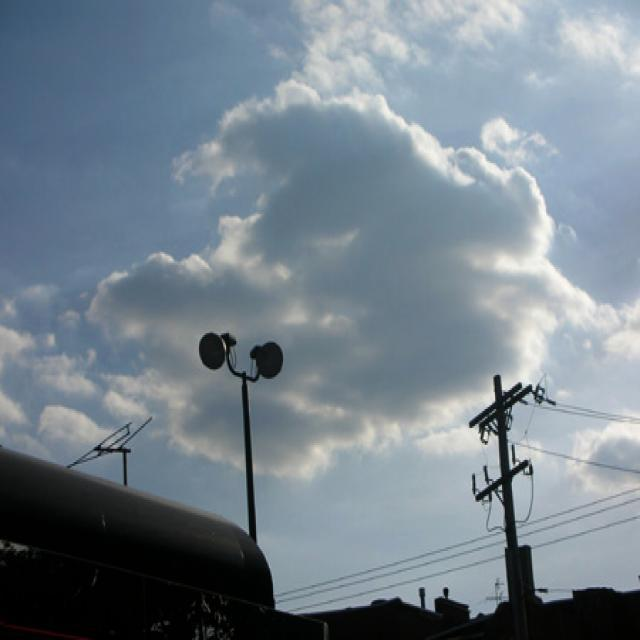crossarm: (470, 442, 534, 505), (467, 381, 534, 436)
pole: (493, 372, 543, 599), (241, 368, 259, 546)
wire: (273, 527, 505, 598), (274, 538, 507, 605), (286, 552, 506, 615), (515, 486, 640, 531), (516, 497, 640, 540), (507, 438, 640, 474), (528, 514, 640, 551), (519, 400, 640, 426)
